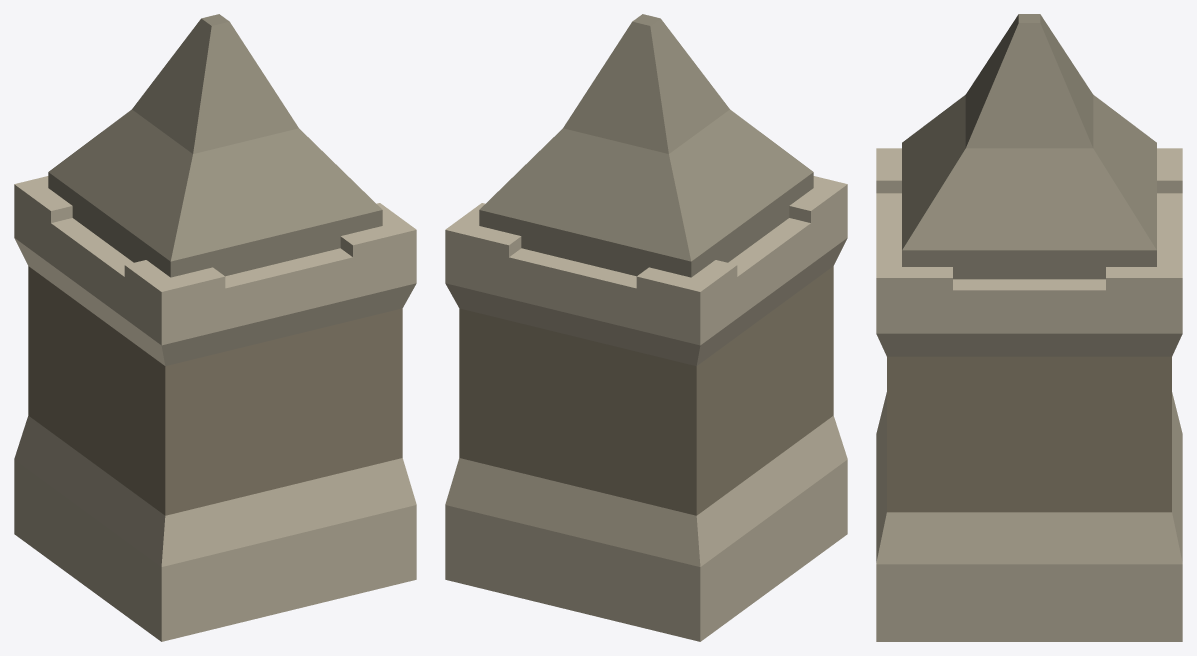
The model's file is towerSquareRoof.glb.
3 views of the same model, side by side, from view 1: azimuth 30°, elevation 25°; view 2: azimuth 150°, elevation 25°; view 3: azimuth 270°, elevation 25° (orthographic). The views are drawn at different scales.
Parts seen in each view (by area): view 1: mesh_0, mesh_1, mesh_2; view 2: mesh_0, mesh_1, mesh_2; view 3: mesh_0, mesh_2, mesh_1.
Part boxes in pixels (left/top/right/bottom): mesh_0: left=14, top=176, right=416, bottom=641; mesh_1: left=28, top=266, right=402, bottom=515; mesh_2: left=48, top=14, right=382, bottom=277; mesh_0: left=445, top=176, right=847, bottom=641; mesh_1: left=459, top=266, right=833, bottom=515; mesh_2: left=479, top=14, right=813, bottom=277; mesh_0: left=876, top=148, right=1182, bottom=641; mesh_2: left=902, top=14, right=1156, bottom=279; mesh_1: left=887, top=356, right=1171, bottom=512.
Size of the model in its own units: 10 by 20.1 by 10.
